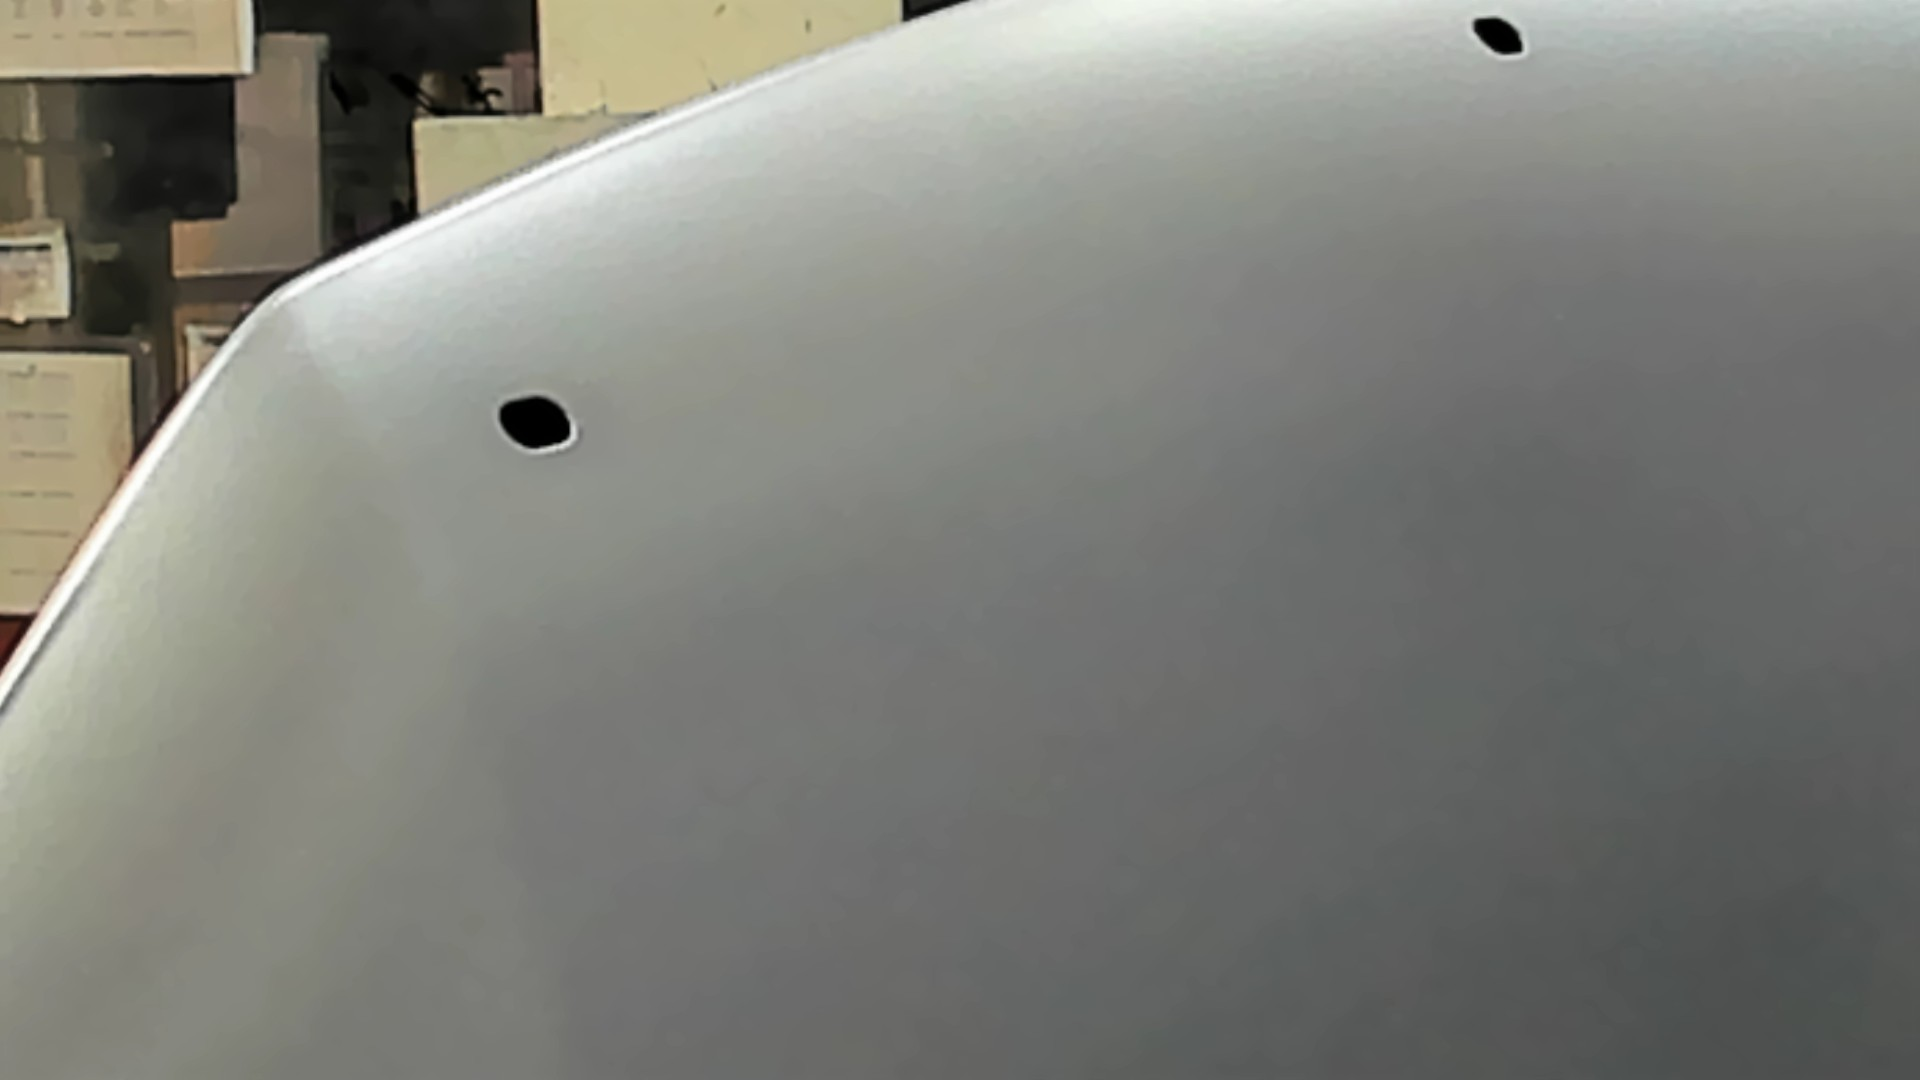amorfo: (488, 382, 580, 462), (1461, 9, 1532, 65)
